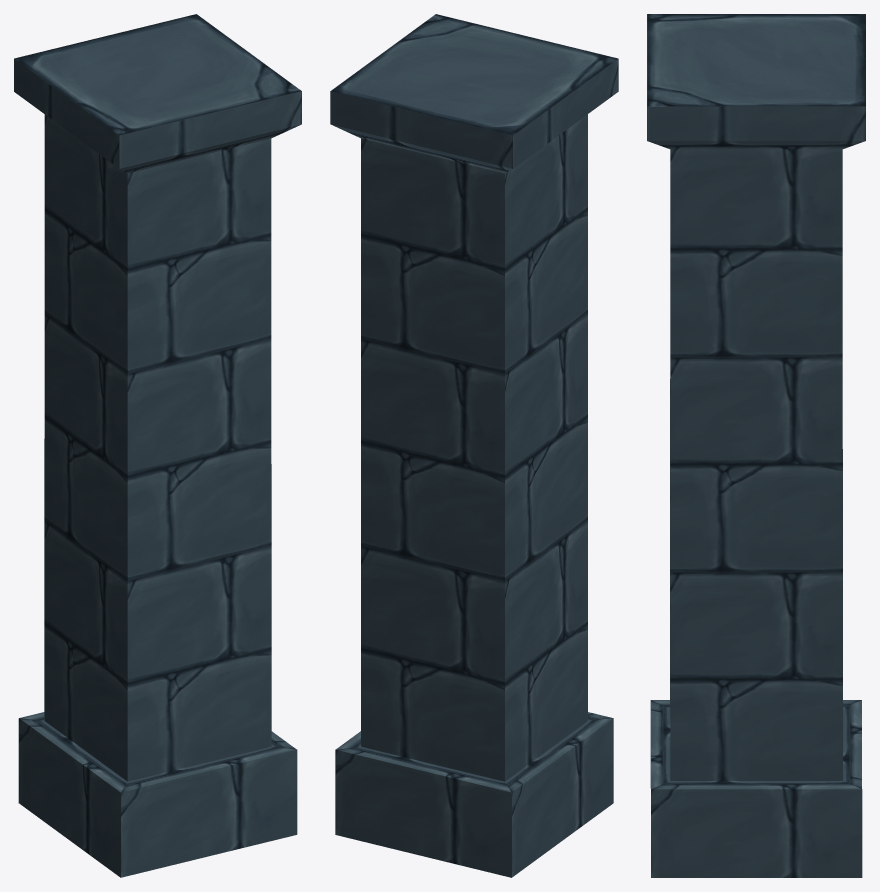
Rendered from Pillar2.fbx.
3 renders of one model, left to right at view 1: azimuth 30°, elevation 25°; view 2: azimuth 150°, elevation 25°; view 3: azimuth 270°, elevation 25°, orthographic. The views are drawn at different scales.
Visible parts, largest first — view 1: Pillar_2; view 2: Pillar_2; view 3: Pillar_2.
Boxes of the visible parts, <box> form: Pillar_2: <box>14,14,301,877</box>; Pillar_2: <box>330,14,618,877</box>; Pillar_2: <box>647,14,865,877</box>.
Bounding box in the file's own units: 3.91 × 15.24 × 3.91.
